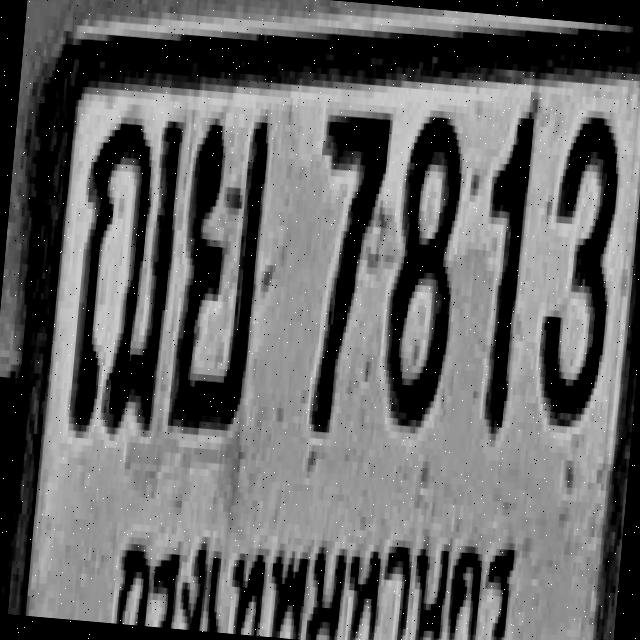1: (470, 106, 534, 430)
21ChorChoe: (66, 108, 186, 438)
3: (534, 112, 622, 426)
43YorYak: (168, 113, 270, 428)
7: (300, 108, 390, 436)
8: (379, 108, 466, 428)
Bangkok: (109, 502, 527, 640)
